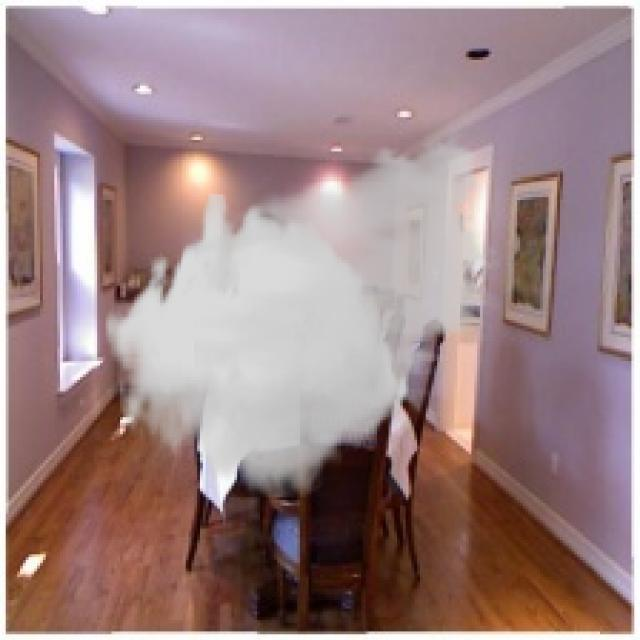Smoke: (103, 122, 503, 498)
